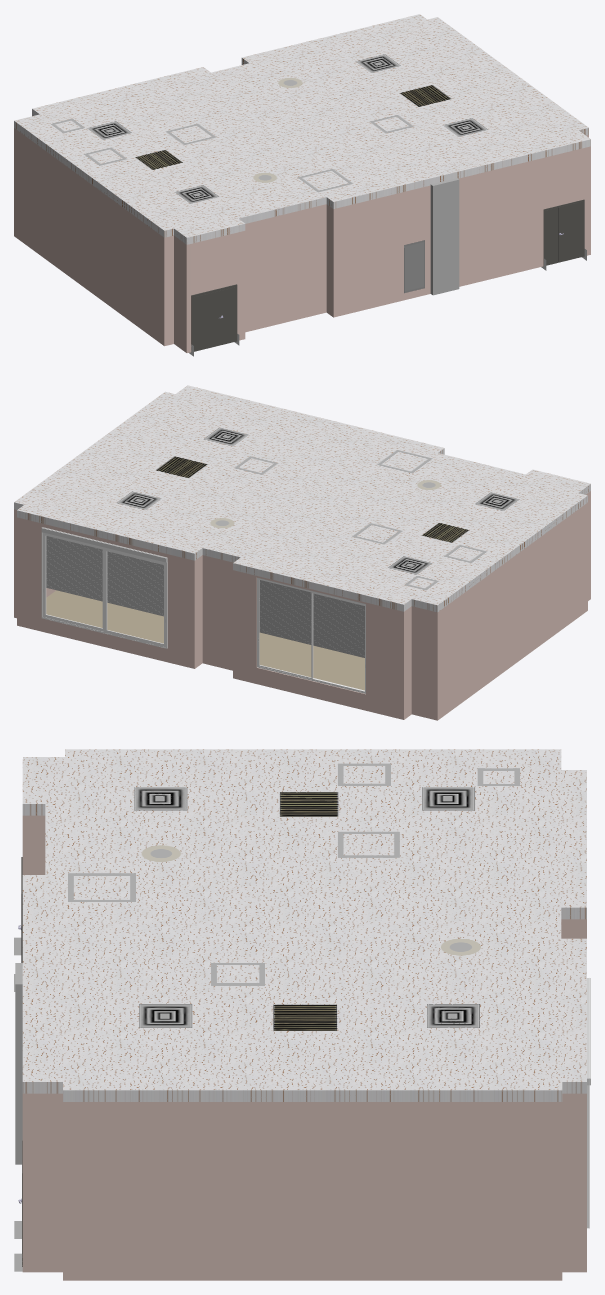
The picture shows the model from 3 angles, top to bottom: view 1: azimuth 30°, elevation 25°; view 2: azimuth 150°, elevation 25°; view 3: azimuth 270°, elevation 25°; orthographic projection. The views are drawn at different scales.
Visible parts, largest first — view 1: Ceiling, Room, Room.001, nazo2, Door.002, Door.001, nazo1, Door, Door.003, DoorFrame.001; view 2: Ceiling, Room, Room.001, Floor, Blind, Blind.001, Window.R, Window.L, WindowFrame, Blind_box, WindowFrame.001, Window.R.001 (+1 smaller); view 3: Ceiling, Room.002, Room, nazo2.
Boxes of the visible parts, x1=… form: Ceiling: x1=14, y1=14, x2=590, y2=244; Room: x1=32, y1=116, x2=590, y2=352; Room.001: x1=14, y1=128, x2=164, y2=345; nazo2: x1=430, y1=178, x2=459, y2=295; Door.002: x1=194, y1=290, x2=223, y2=351; Door.001: x1=558, y1=201, x2=583, y2=262; nazo1: x1=404, y1=240, x2=424, y2=293; Door: x1=545, y1=207, x2=557, y2=265; Door.003: x1=224, y1=287, x2=234, y2=344; DoorFrame.001: x1=191, y1=284, x2=237, y2=349; Ceiling: x1=14, y1=385, x2=590, y2=612; Room: x1=14, y1=491, x2=590, y2=720; Room.001: x1=437, y1=502, x2=587, y2=720; Floor: x1=46, y1=590, x2=364, y2=690; Blind: x1=46, y1=536, x2=163, y2=616; Blind.001: x1=259, y1=580, x2=364, y2=657; Window.R: x1=104, y1=547, x2=165, y2=647; Window.L: x1=43, y1=533, x2=103, y2=631; WindowFrame: x1=41, y1=527, x2=167, y2=648; Blind_box: x1=41, y1=527, x2=167, y2=562; WindowFrame.001: x1=257, y1=578, x2=365, y2=693; Window.R.001: x1=311, y1=592, x2=365, y2=692; Ceiling: x1=22, y1=749, x2=586, y2=1101; Room.002: x1=63, y1=1102, x2=562, y2=1280; Room: x1=22, y1=815, x2=586, y2=1272; nazo2: x1=15, y1=963, x2=22, y2=1164.
Size of the model in its own units: 1637 by 436 by 1170.
23 materials, 6 textured.
